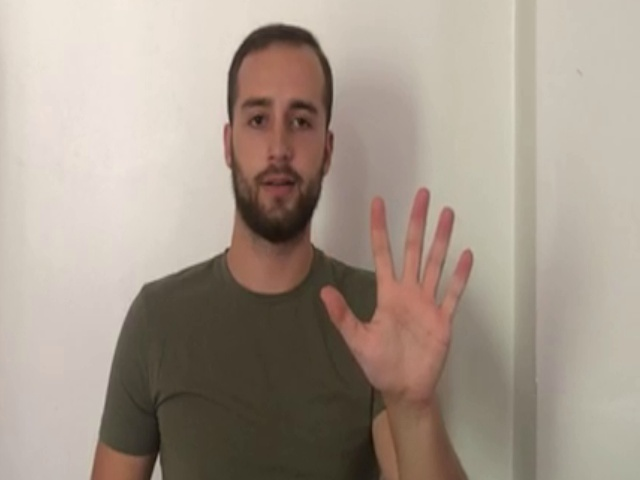Pet i Sedumnaeset: (316, 184, 479, 408)
